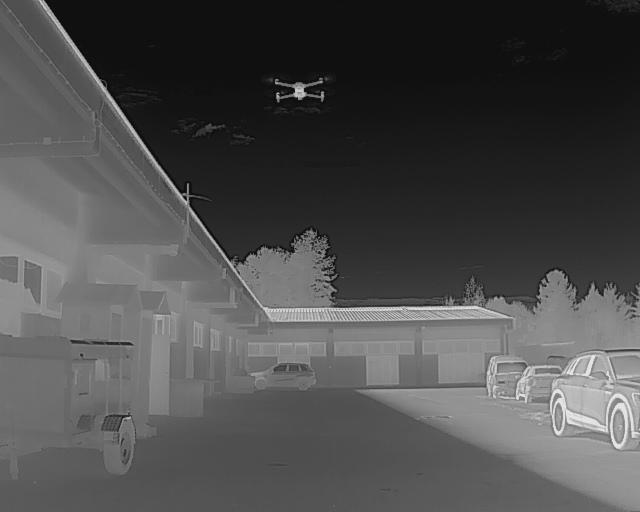drone: (262, 76, 332, 118)
